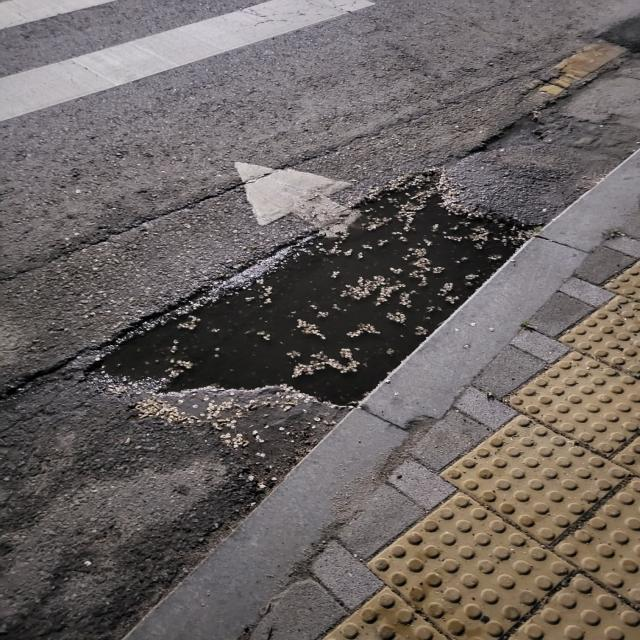pothole: (94, 162, 535, 412)
